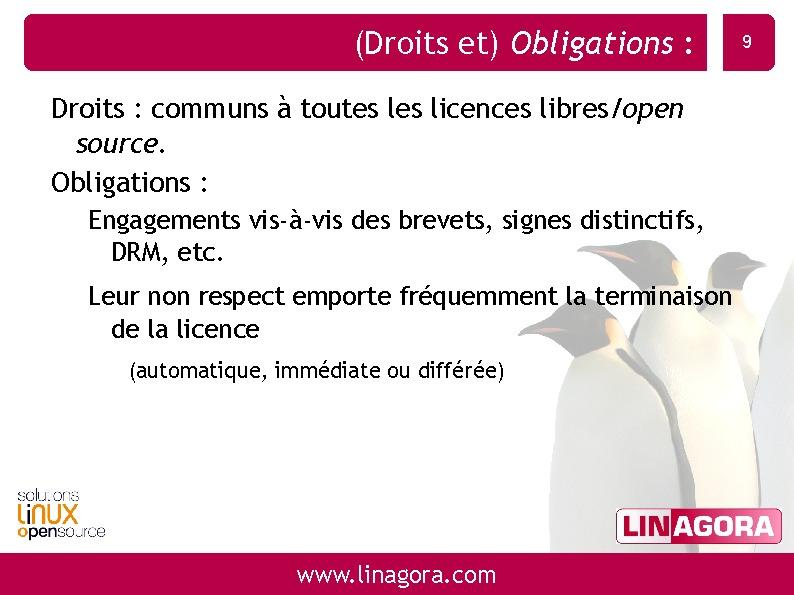paragraph: (39, 87, 753, 419)
title: (350, 13, 707, 77)
